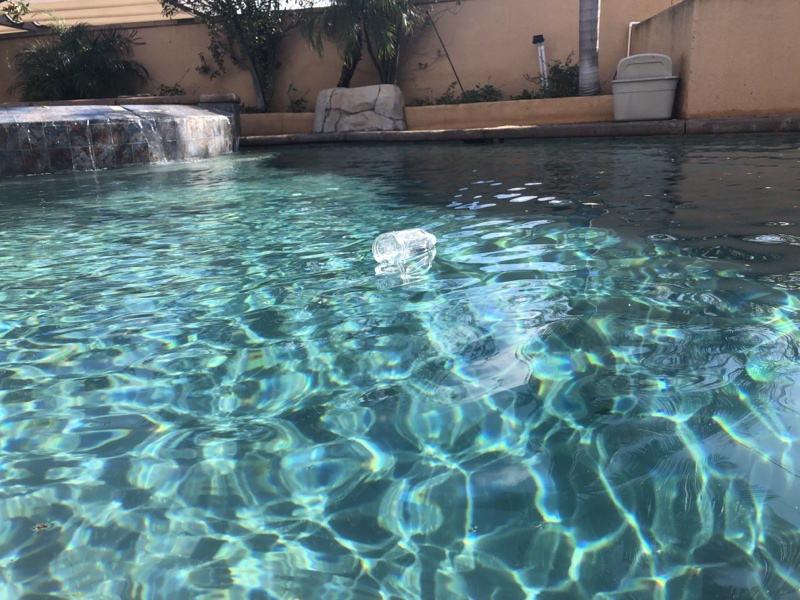Plastic Bottle: (368, 227, 440, 266)
